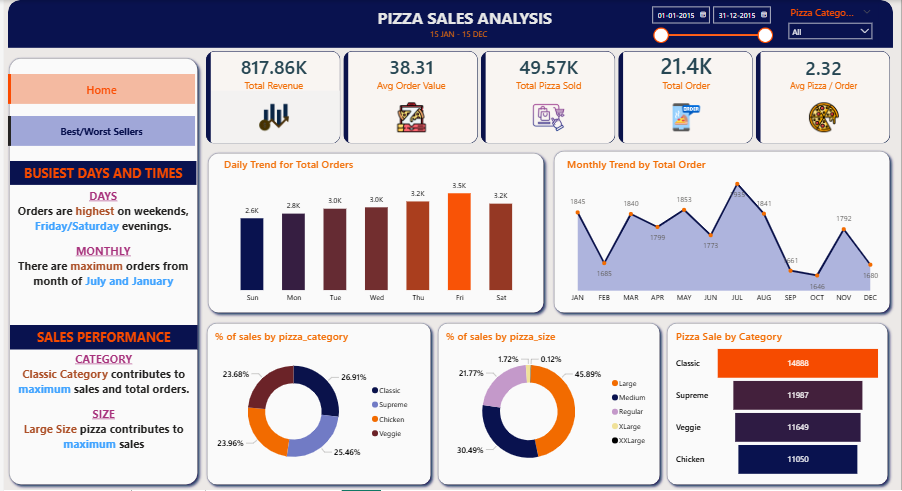

The page's visual inventory and layout, read from the dashboard file:
{"tool":"powerbi","page":{"name":"Home","canvas":[1500,820],"ordinal":0},"visuals":[{"type":"shape","box":[0,88.7,333,731.3],"z":0},{"type":"cardVisual","fields":{"Data":["pizzadb pizza_sales.Total_revenue","pizzadb pizza_sales.Avg_order_value","pizzadb pizza_sales.Total_pizza_sold","pizzadb pizza_sales.Total_order","pizzadb pizza_sales.Avg_pizza_per_order"]},"box":[333.1,79.6,1156.4,165.5],"z":1000},{"type":"shape","box":[6.7,0,1481,80.3],"z":2000},{"type":"textbox","box":[603.4,6.8,333.9,49.2],"z":3000},{"type":"textbox","box":[708.5,44.1,178,28.8],"z":4000},{"type":"shape","box":[333,247.7,579,284.5],"z":5000},{"type":"shape","box":[912,244.3,579,287.8],"z":6000},{"type":"shape","box":[331.3,532.2,391.6,287.8],"z":7000},{"type":"shape","box":[717.9,532.2,388.2,287.8],"z":8000},{"type":"shape","box":[1101.1,532.2,386.6,287.8],"z":9000},{"type":"columnChart","title":"Daily Trend for Total Orders","fields":{"Category":["pizzadb pizza_sales.Order day"],"Y":["pizzadb pizza_sales.Total Order"]},"box":[363.1,262.7,522.1,252.7],"z":10000},{"type":"areaChart","title":"Monthly Trend by Total Order","fields":{"Y":["pizzadb pizza_sales.Total Order"],"Category":["pizzadb pizza_sales.Month Name"]},"box":[937.1,262.7,535.5,252.7],"z":11000},{"type":"donutChart","title":"% of sales by pizza_category","fields":{"Category":["pizzadb pizza_sales.pizza_category"],"Y":["pizzadb pizza_sales.Total Revenue"]},"box":[348.1,550.6,341.4,252.7],"z":12000},{"type":"donutChart","title":"% of sales by pizza_size","fields":{"Category":["pizzadb pizza_sales.pizza_size"],"Y":["pizzadb pizza_sales.Total Revenue"]},"box":[734.7,550.6,353.1,252.7],"z":13000},{"type":"funnel","title":"Pizza Sale by Category","fields":{"Y":["pizzadb pizza_sales.Total Pizza Sold"],"Category":["pizzadb pizza_sales.pizza_category"]},"box":[1119.6,550.6,353.1,252.7],"z":14000},{"type":"textbox","box":[10.3,269.3,312.1,39.7],"z":15000},{"type":"textbox","box":[10.3,309,312.1,213.8],"z":16000},{"type":"textbox","box":[10.3,543.1,313.8,41.4],"z":17000},{"type":"textbox","box":[10.3,582.8,313.8,203.4],"z":18000},{"type":"slicer","fields":{"Values":["pizzadb pizza_sales.pizza_category"]},"box":[1302,3.3,162.3,73.6],"z":19000},{"type":"slicer","fields":{"Values":["pizzadb pizza_sales.order_date"]},"box":[1071,0,225.9,77],"z":20000},{"type":"pageNavigator","box":[6.9,194.8,313.8,50],"z":21000},{"type":"pageNavigator","box":[6.9,124.1,313.8,50],"z":21001}]}

Visuals, with their boxes in screenshot pixels (x1, y1, x2, y2), scaled from the page's 1500x820 canvas onto the 902x491 screenshot:
shape: crop(0, 53, 200, 490)
cardVisual - pizzadb pizza_sales.Total_revenue x pizzadb pizza_sales.Avg_order_value: crop(200, 48, 896, 147)
shape: crop(4, 0, 895, 48)
textbox: crop(363, 4, 564, 34)
textbox: crop(426, 26, 533, 44)
shape: crop(200, 148, 548, 319)
shape: crop(548, 146, 897, 319)
shape: crop(199, 319, 435, 490)
shape: crop(432, 319, 665, 490)
shape: crop(662, 319, 895, 490)
"Daily Trend for Total Orders" columnChart: crop(218, 157, 532, 309)
"Monthly Trend by Total Order" areaChart: crop(564, 157, 886, 309)
"% of sales by pizza_category" donutChart: crop(209, 330, 415, 481)
"% of sales by pizza_size" donutChart: crop(442, 330, 654, 481)
"Pizza Sale by Category" funnel: crop(673, 330, 886, 481)
textbox: crop(6, 161, 194, 185)
textbox: crop(6, 185, 194, 313)
textbox: crop(6, 325, 195, 350)
textbox: crop(6, 349, 195, 471)
slicer - pizzadb pizza_sales.pizza_category: crop(783, 2, 881, 46)
slicer - pizzadb pizza_sales.order_date: crop(644, 0, 780, 46)
pageNavigator: crop(4, 117, 193, 147)
pageNavigator: crop(4, 74, 193, 104)
